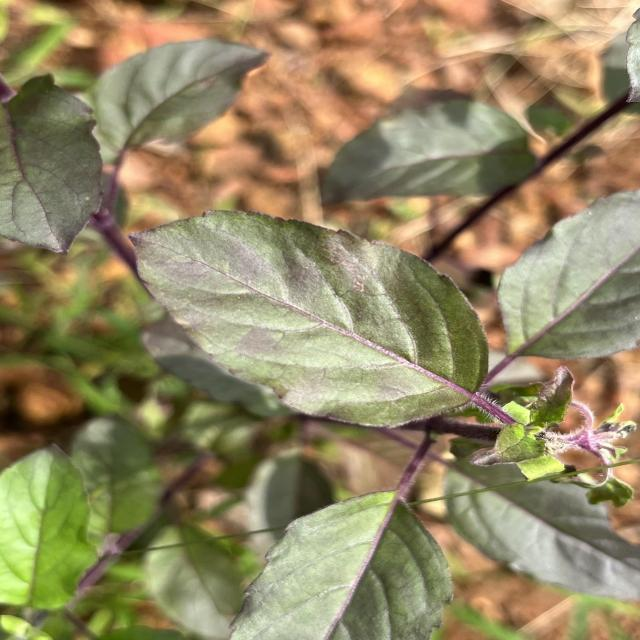Ocimum tenuiflorum: (122, 202, 496, 433)
